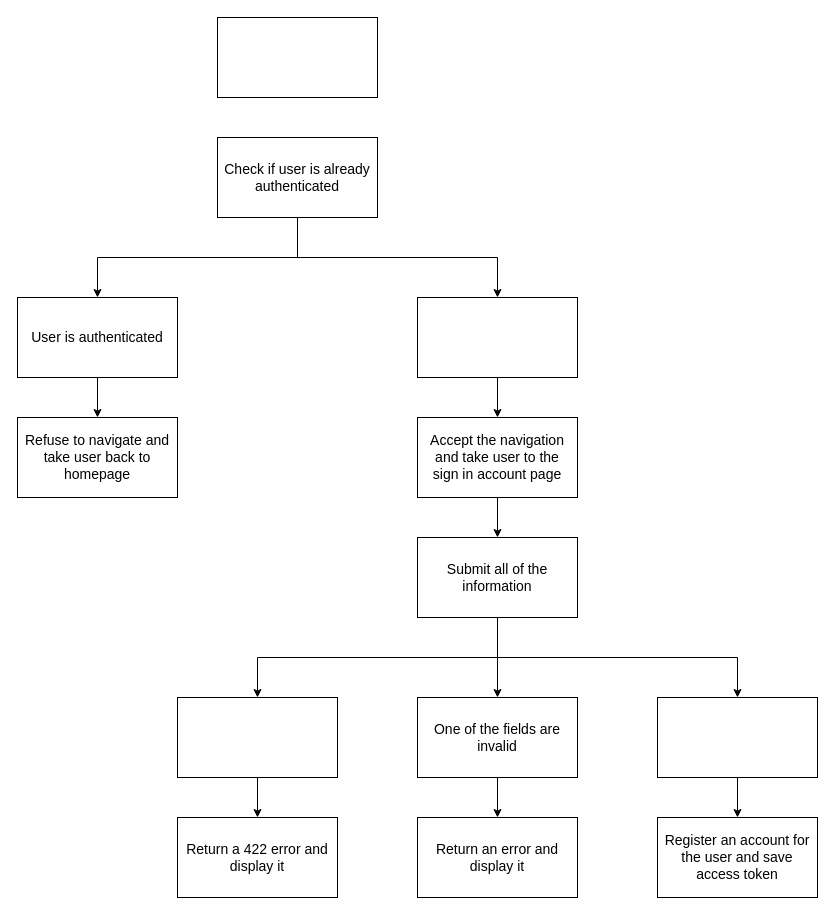
Image size: 835x915. Some labels were removed from this diagram. The centre of each missing label's shape, as x and y in pixels:
"E-mail and password are correct and all of the fields are valid" belongs at [737,737].
"E-mail or password is incorrect" belongs at [257,737].
"Navigate to sign in page" belongs at [297,57].
"User is unauthenticated" belongs at [497,337].
